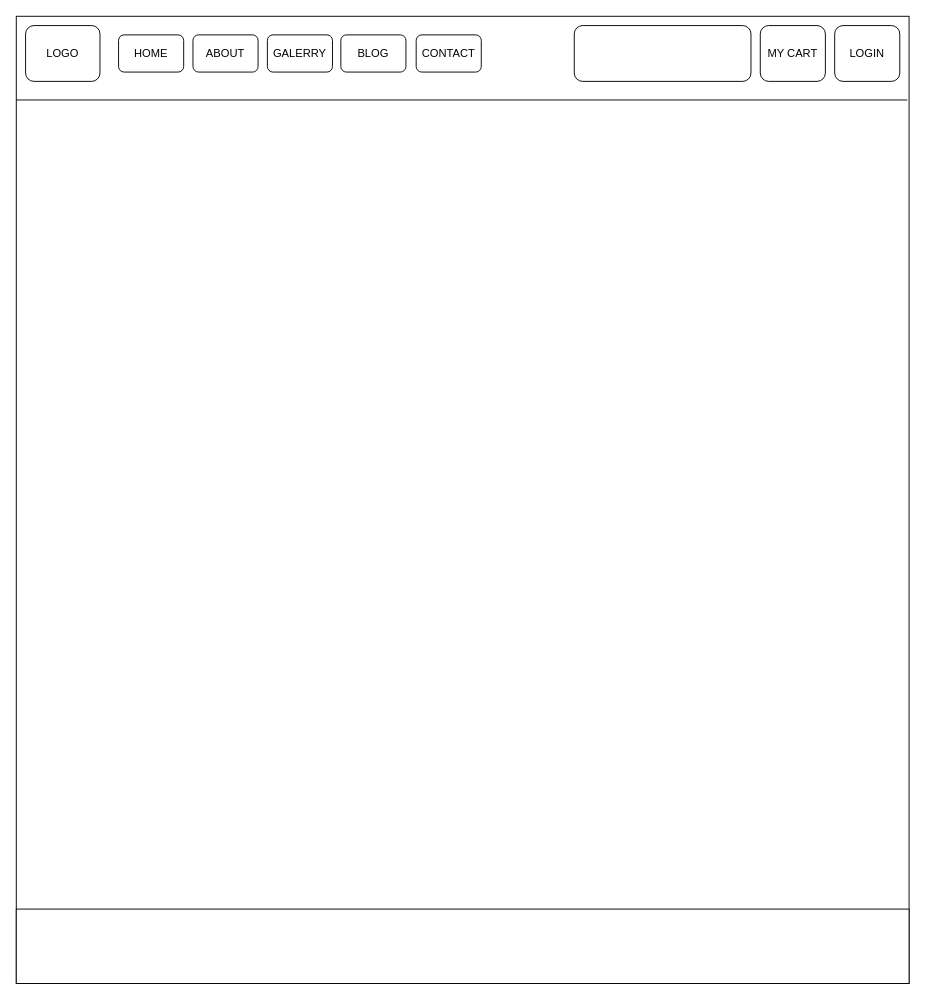
This 925x1000 diagram has some shape labels left out. The centre of each missing label's shape, as x and y in pixels:
"FOOTER" goes at (462,945).
"SEARCH" goes at (662,53).
